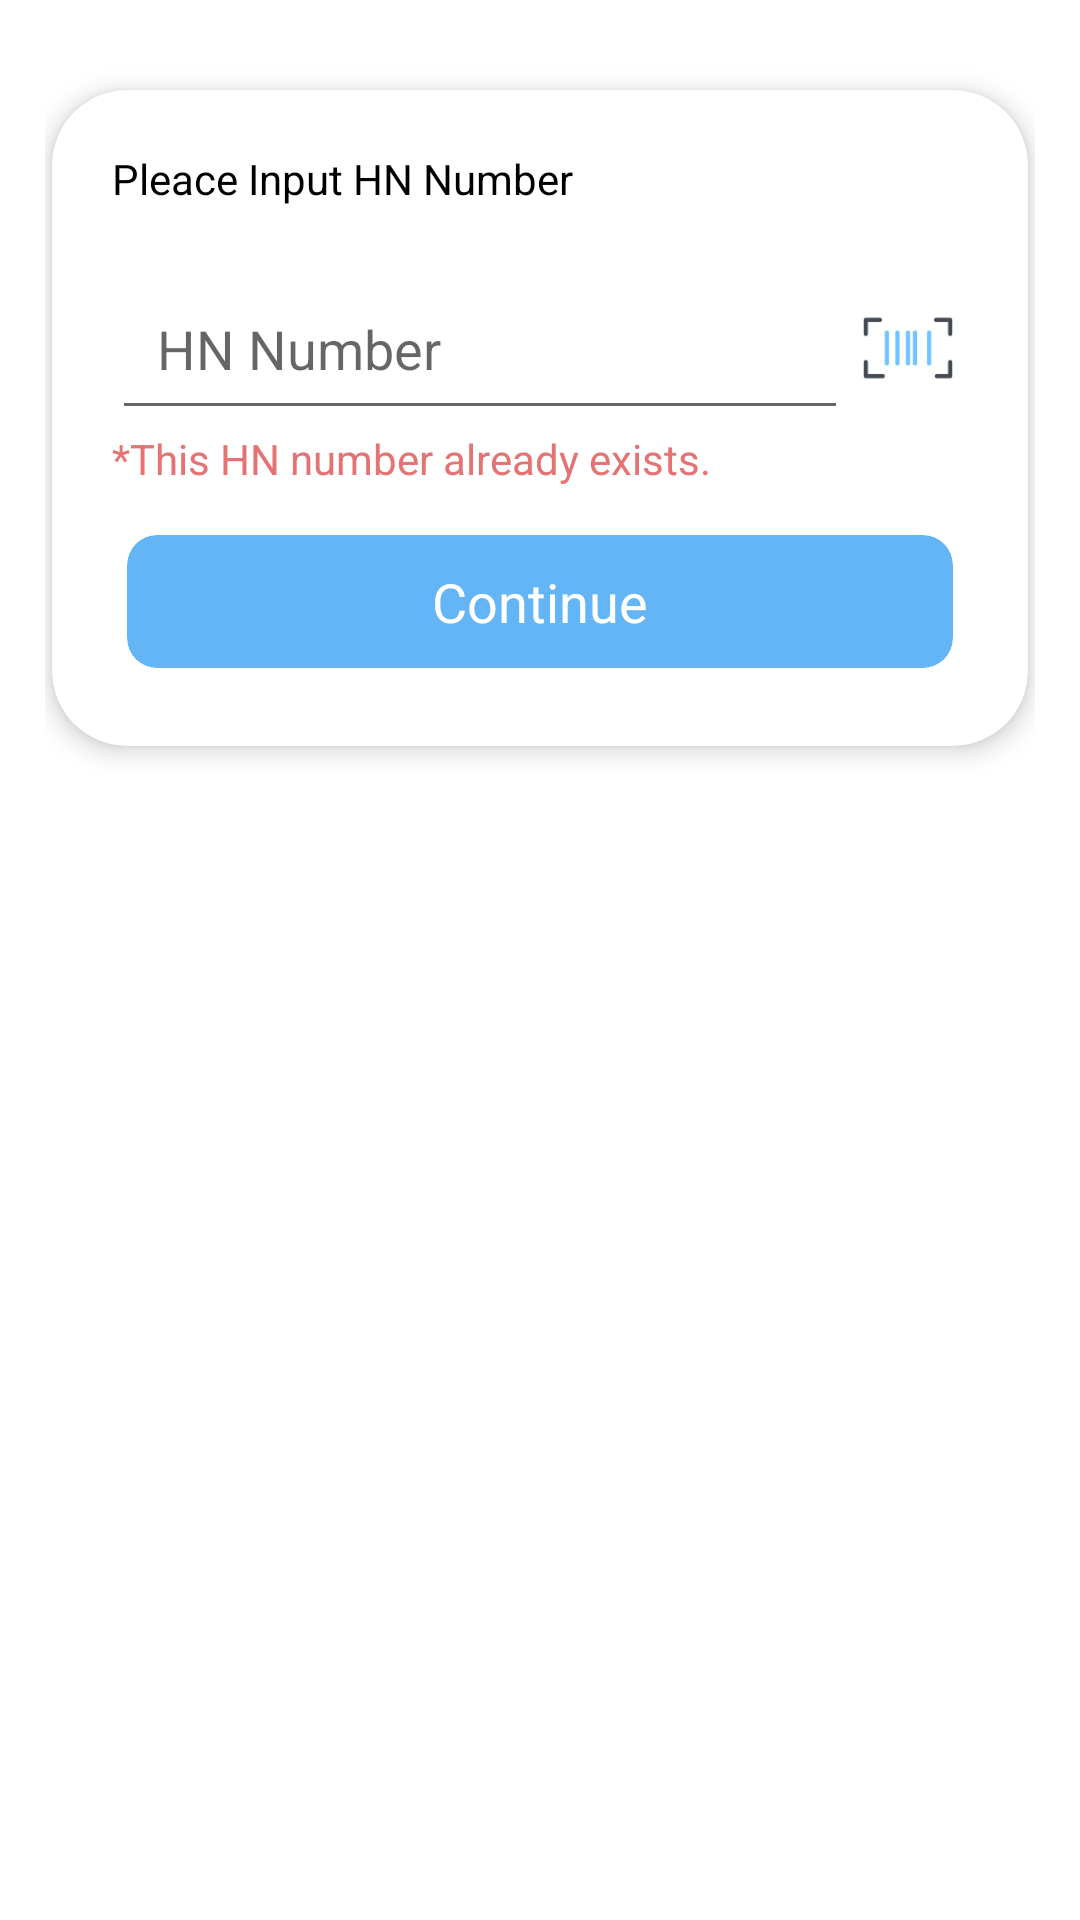

Named icons in this screenshot (1080 x 1920) and their bounding boxes, (x1, y1, x2, y2):
barcode scanner: (863, 317, 953, 379)
